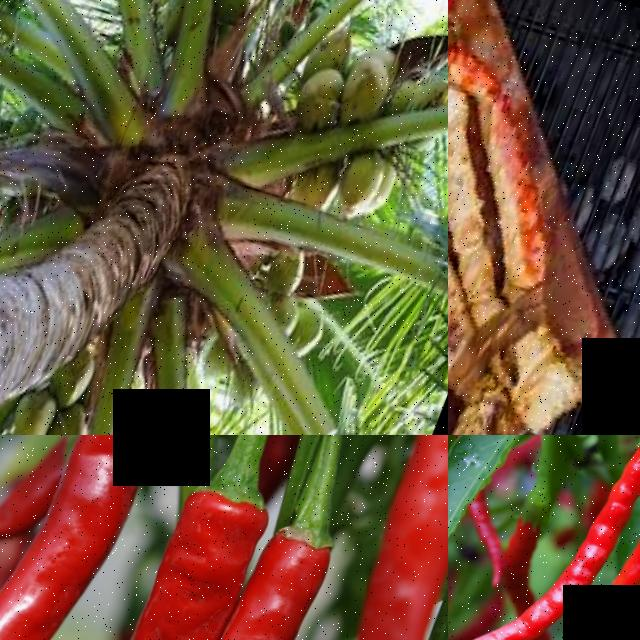chilli: (32, 459, 273, 640), (258, 435, 448, 640), (0, 435, 176, 640), (124, 505, 351, 640), (556, 435, 640, 632), (600, 435, 640, 640)
coconuts: (281, 12, 407, 149), (0, 336, 120, 435), (188, 0, 311, 37)
crab: (448, 16, 601, 381)
